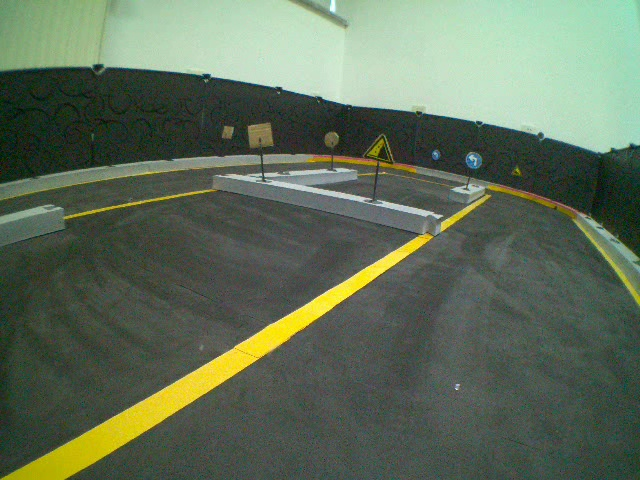fast: (362, 132, 396, 164), (511, 163, 524, 176)
turn: (463, 151, 483, 170)
